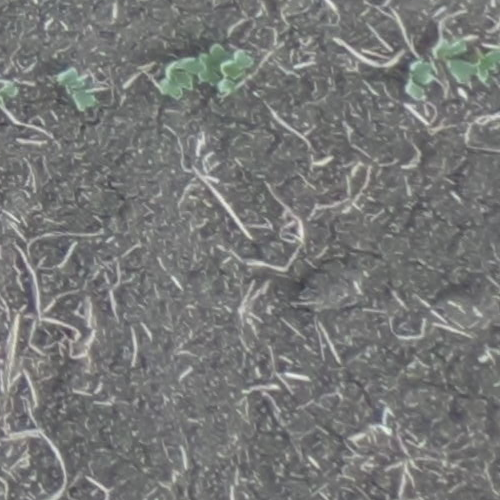plant: (159, 44, 252, 98), (438, 39, 476, 82), (59, 66, 94, 111), (404, 61, 435, 103)
